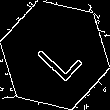L_NW: (27, 26, 83, 84)
